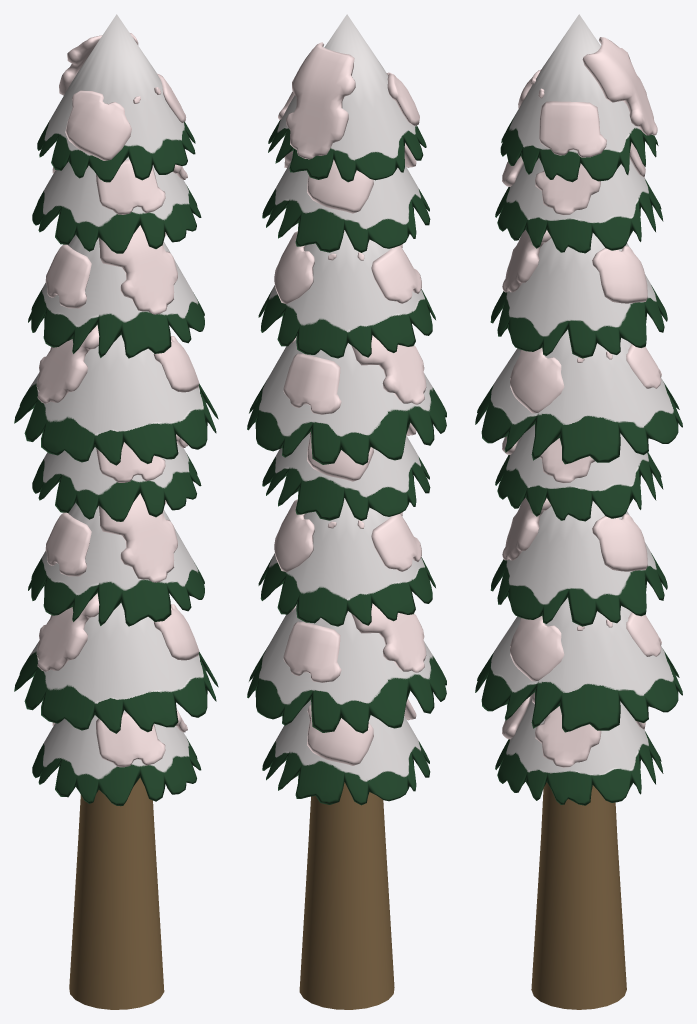
The model's file is BiggerTrees2.O.fbx.
3 views of the same model, side by side, from view 1: azimuth 30°, elevation 25°; view 2: azimuth 150°, elevation 25°; view 3: azimuth 270°, elevation 25° (orthographic).
Parts seen in each view (by area): view 1: pasted__Log1, pasted__Tree_Branches_Bottom1, pasted__Tree_Branches_Bottom, pasted__Tree_Branches_Top, pasted__Tree_Branches_Middle1, pasted__Tree_Branches_Middle, pasted__Tree_Branches_Highier_Middle, pasted__Tree_Branches_Highier_Middle2, pasted__Tree_Branches_Highier_Middle1, pasted__pCube164, pasted__pCube71, pasted__pCube75 (+10 smaller); view 2: pasted__Log1, pasted__Tree_Branches_Bottom, pasted__Tree_Branches_Bottom1, pasted__Tree_Branches_Middle1, pasted__Tree_Branches_Middle, pasted__Tree_Branches_Top, pasted__Tree_Branches_Highier_Middle2, pasted__Tree_Branches_Highier_Middle, pasted__Tree_Branches_Highier_Middle1, pasted__pCube80, pasted__pCube82, pasted__pCube170 (+10 smaller); view 3: pasted__Log1, pasted__Tree_Branches_Bottom1, pasted__Tree_Branches_Bottom, pasted__Tree_Branches_Middle1, pasted__Tree_Branches_Middle, pasted__Tree_Branches_Top, pasted__Tree_Branches_Highier_Middle2, pasted__Tree_Branches_Highier_Middle, pasted__Tree_Branches_Highier_Middle1, pasted__pCube80, pasted__pCube63, pasted__pCube167 (+11 smaller).
Part boxes in pixels (x1,y1,x2,y2): pasted__Log1: [69, 777, 164, 1009]; pasted__Tree_Branches_Bottom1: [14, 603, 218, 733]; pasted__Tree_Branches_Bottom: [14, 335, 218, 465]; pasted__Tree_Branches_Top: [37, 14, 195, 182]; pasted__Tree_Branches_Middle1: [28, 502, 204, 626]; pasted__Tree_Branches_Middle: [28, 234, 204, 358]; pasted__Tree_Branches_Highier_Middle: [32, 156, 201, 253]; pasted__Tree_Branches_Highier_Middle2: [32, 710, 201, 806]; pasted__Tree_Branches_Highier_Middle1: [32, 443, 201, 521]; pasted__pCube164: [98, 493, 177, 582]; pasted__pCube71: [98, 225, 177, 314]; pasted__pCube75: [65, 90, 131, 160]; pasted__Log1: [299, 782, 394, 1009]; pasted__Tree_Branches_Bottom: [247, 337, 446, 465]; pasted__Tree_Branches_Bottom1: [247, 605, 446, 733]; pasted__Tree_Branches_Middle1: [258, 498, 435, 626]; pasted__Tree_Branches_Middle: [258, 230, 435, 358]; pasted__Tree_Branches_Top: [268, 14, 426, 182]; pasted__Tree_Branches_Highier_Middle2: [262, 700, 430, 805]; pasted__Tree_Branches_Highier_Middle: [262, 161, 430, 252]; pasted__Tree_Branches_Highier_Middle1: [262, 433, 430, 520]; pasted__pCube80: [286, 42, 355, 159]; pasted__pCube82: [283, 353, 341, 414]; pasted__pCube170: [283, 621, 341, 682]; pasted__Log1: [531, 782, 626, 1009]; pasted__Tree_Branches_Bottom1: [475, 597, 682, 732]; pasted__Tree_Branches_Bottom: [475, 329, 682, 464]; pasted__Tree_Branches_Middle1: [490, 501, 667, 626]; pasted__Tree_Branches_Middle: [490, 233, 667, 358]; pasted__Tree_Branches_Top: [500, 14, 658, 182]; pasted__Tree_Branches_Highier_Middle2: [495, 698, 663, 805]; pasted__Tree_Branches_Highier_Middle: [495, 158, 663, 253]; pasted__Tree_Branches_Highier_Middle1: [495, 424, 663, 521]; pasted__pCube80: [582, 37, 657, 135]; pasted__pCube63: [539, 101, 606, 157]; pasted__pCube167: [510, 616, 564, 681].
Bounding box in the file's own units: 4.19 × 22.54 × 4.35.
